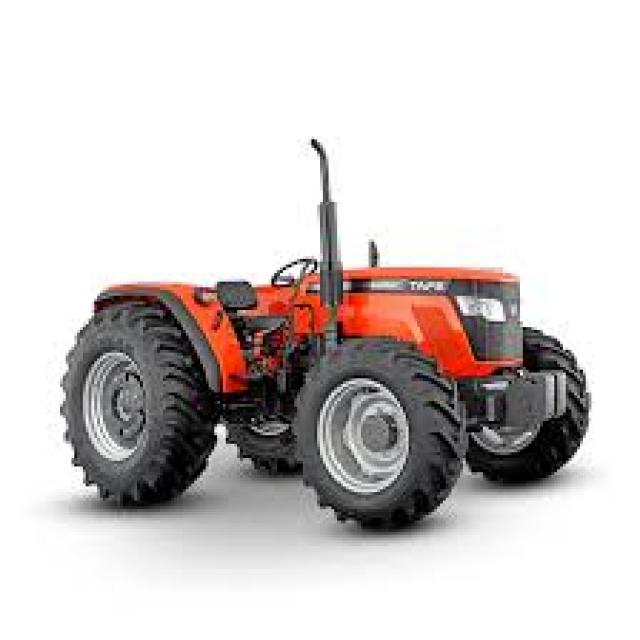tractor: (84, 104, 640, 393)
